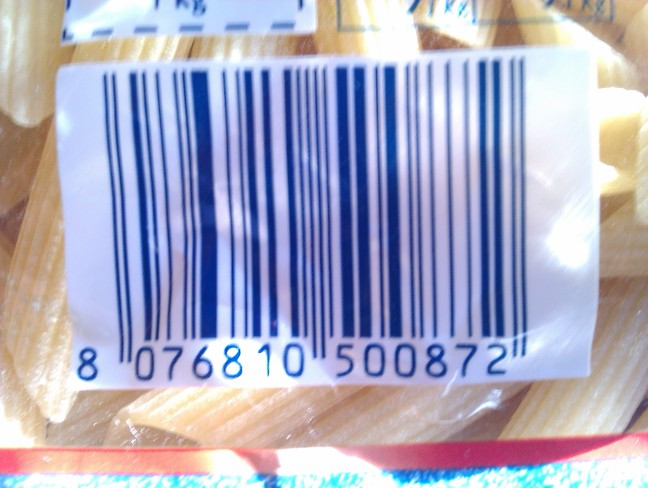barcode: (57, 50, 540, 388)
